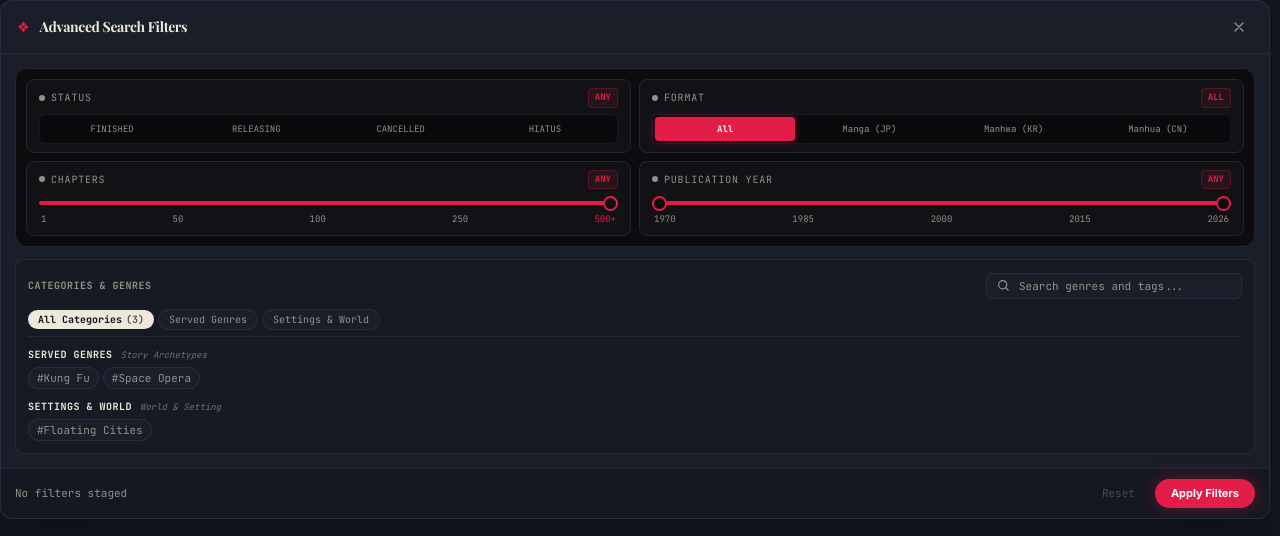
Test case: FilterDrawer vocabulary (FE-23) › cycles a tag include → exclude → neutral, the third state being "no horror"
The width and height of the screenshot is (1280, 536).
What coordinates should you click on to do the following:
click the button "#Kung Fu"
I would click on:
 (63, 378)
Its box is x1=28 y1=366 x2=99 y2=389.
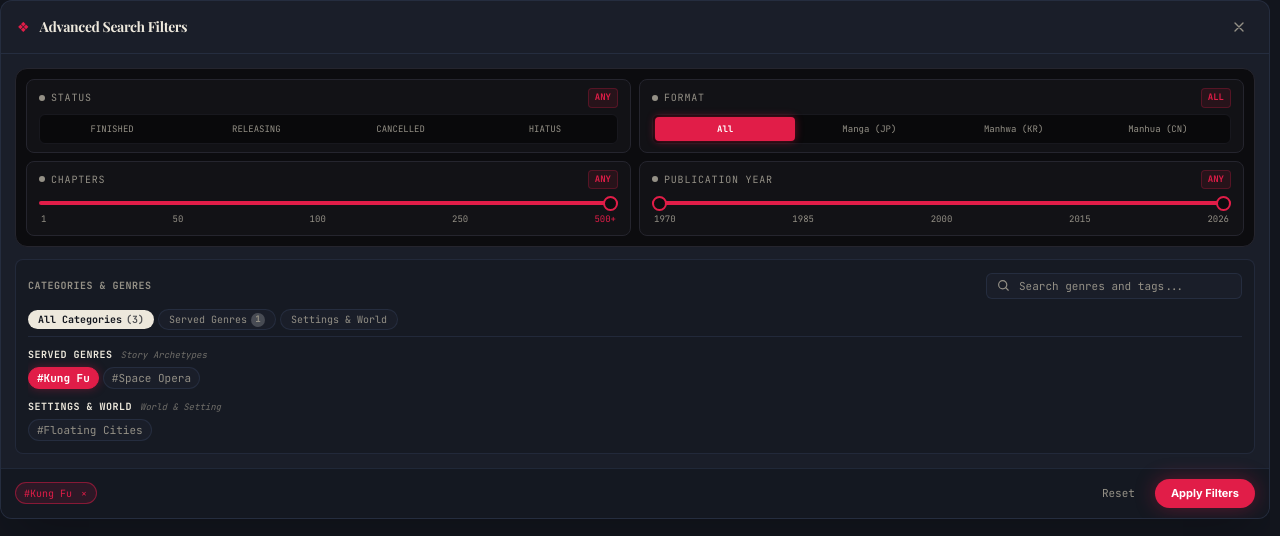
Result: the message shows "#Kung Fu" at x1=24 y1=487 x2=72 y2=500
What coordinates should you click on to do the following:
click the button "#Kung Fu"
I would click on:
 (63, 378)
Its box is x1=28 y1=366 x2=99 y2=389.
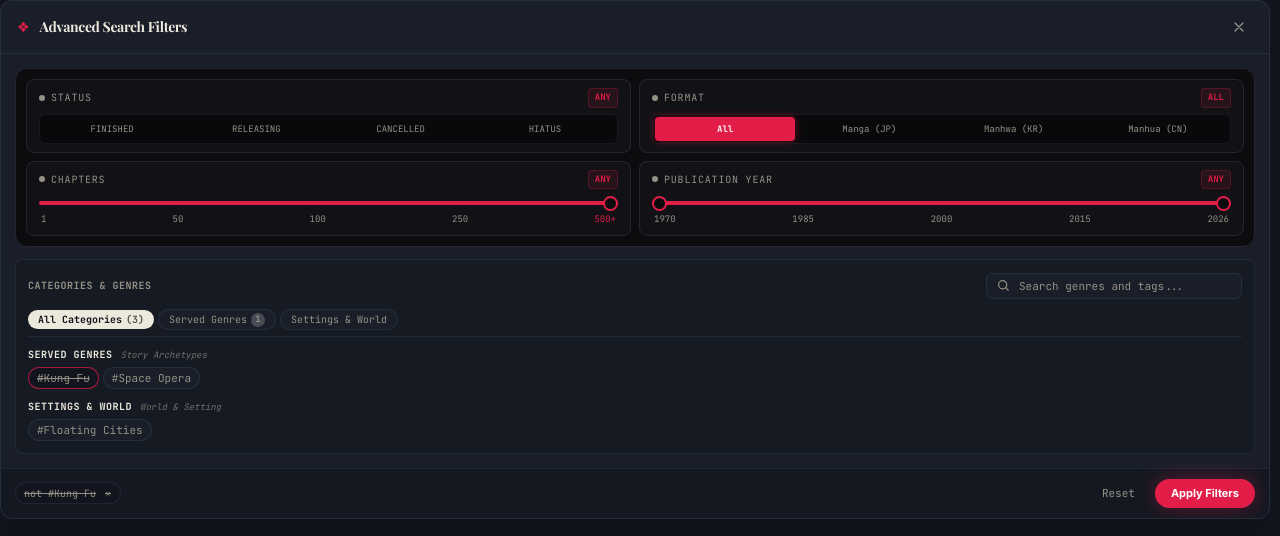
Result: the message shows "not #Kung Fu" at x1=24 y1=487 x2=96 y2=500
What coordinates should you click on to do the following:
click the button "#Kung Fu"
I would click on:
 (63, 378)
Its box is x1=28 y1=366 x2=99 y2=389.
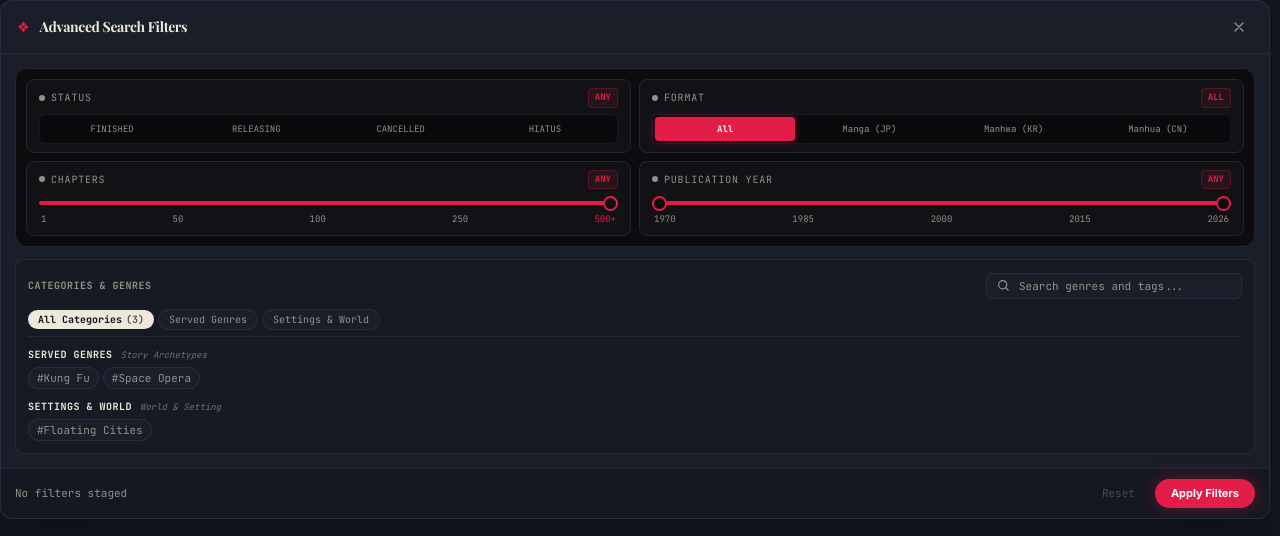
Result: the message reads "No filters staged" at x1=15 y1=486 x2=127 y2=500
